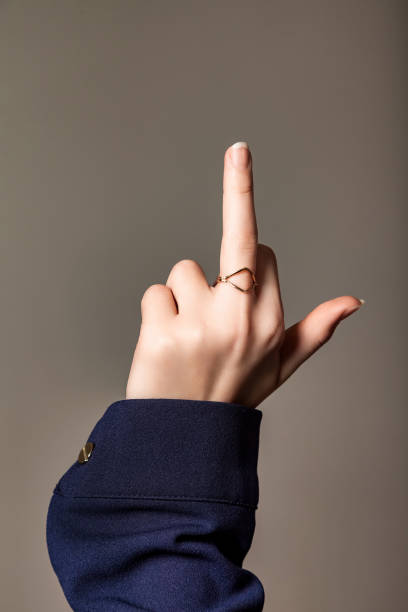insulting_gesture: (129, 136, 368, 397)
